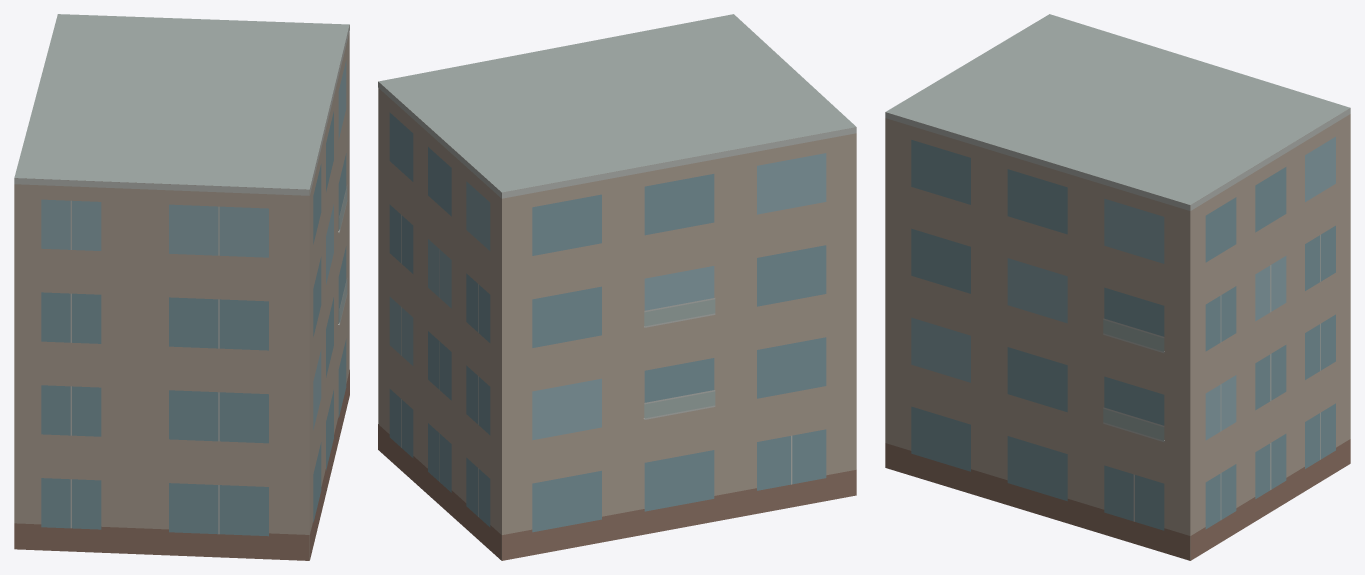
File: survey-upis-32836778.glb
3 renders of one model, left to right at view 1: azimuth 30°, elevation 25°; view 2: azimuth 150°, elevation 25°; view 3: azimuth 270°, elevation 25°, orthographic. The views are drawn at different scales.
Parts seen in each view (by area): view 1: survey-upis-32836778.tmp; view 2: survey-upis-32836778.tmp; view 3: survey-upis-32836778.tmp.
Boxes of the visible parts, box(x1,y1,x2,y2) form: survey-upis-32836778.tmp: box(14, 14, 349, 560); survey-upis-32836778.tmp: box(378, 14, 856, 560); survey-upis-32836778.tmp: box(885, 14, 1350, 560).
Bounding box in the file's own units: 16.72 × 14.5 × 17.2.
